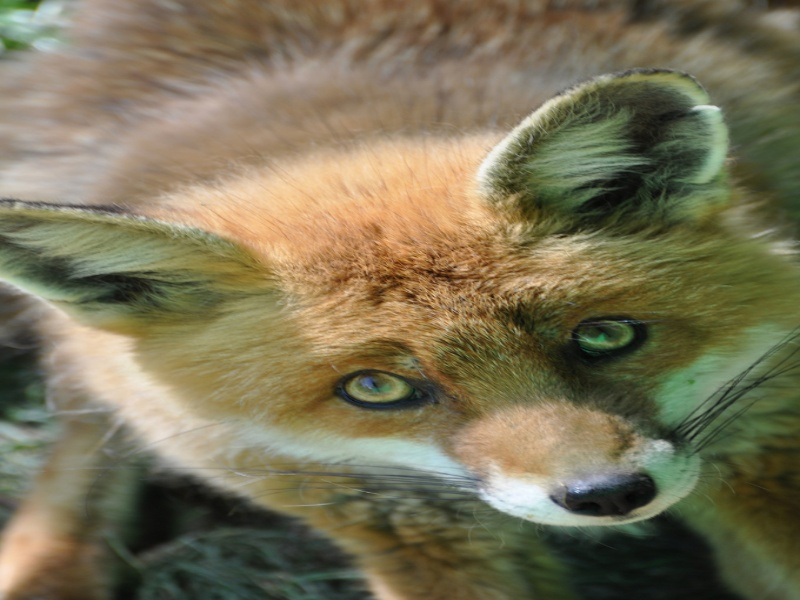fox: (1, 11, 795, 595)
